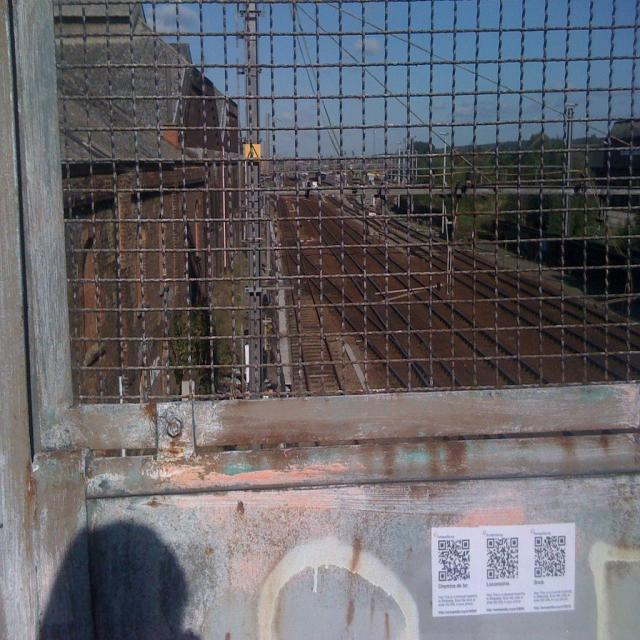qr_code: (438, 539, 469, 581), (487, 538, 518, 578), (534, 536, 565, 576)
